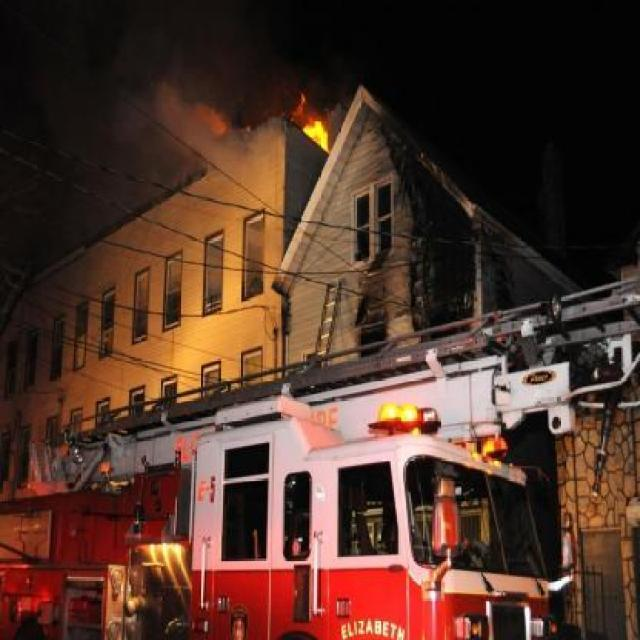Fire: (239, 63, 359, 190)
Smoke: (31, 28, 220, 194)
